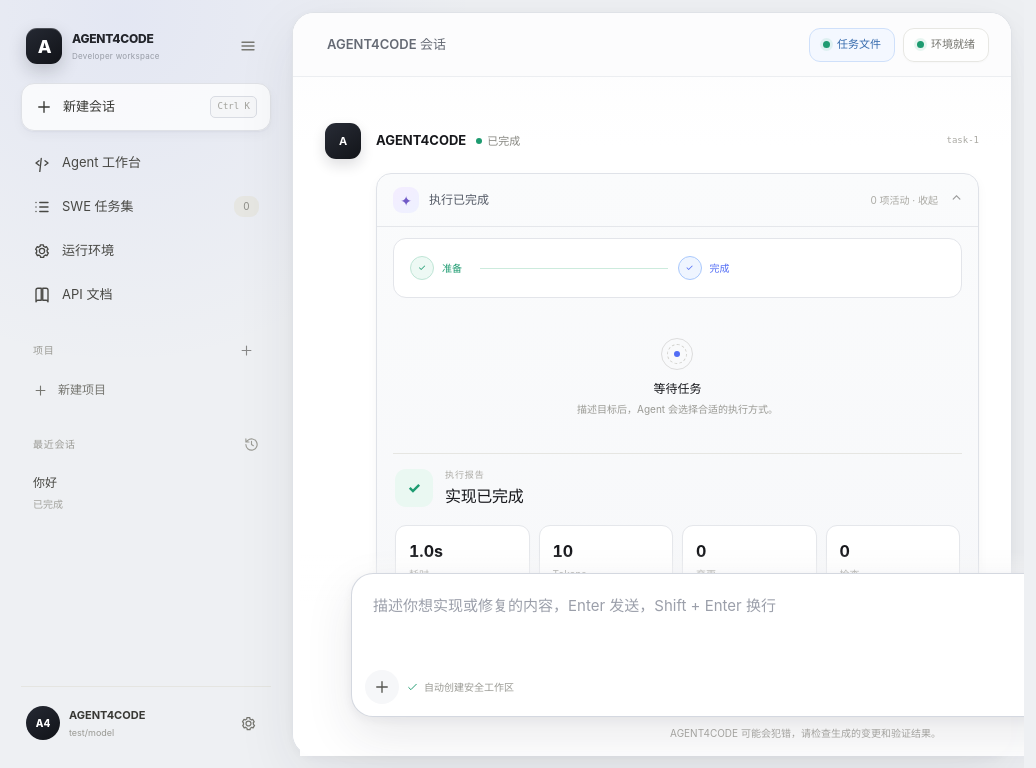
Scenario: AGENT4CODE chat shell › renders one execution card that auto-expands on a completed task
Click the button with class "conversation-select": (130, 493) [21,465,239,521]
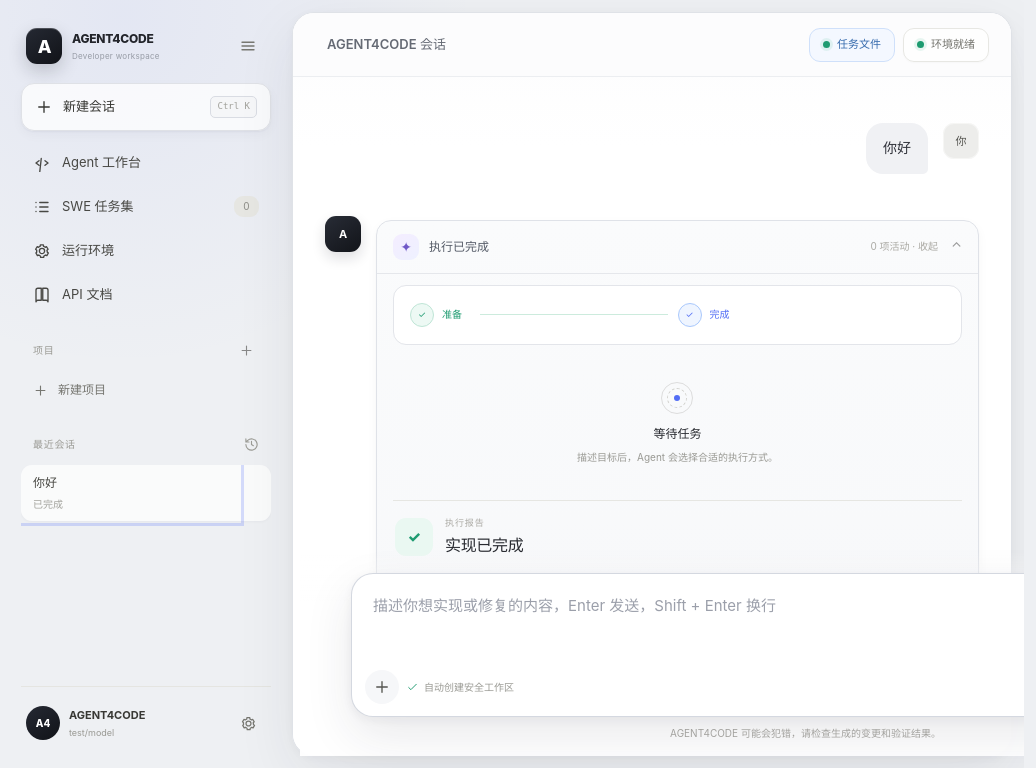
Expected: the number of elements with class "thinking-card" is 1, [376,220,979,672]
Expected: the element with class "report-panel" is shown, [393,500,962,655]
// The user can still collapse the execution details.
Click the button with class "thinking-toggle": (459, 246) [377,221,978,273]
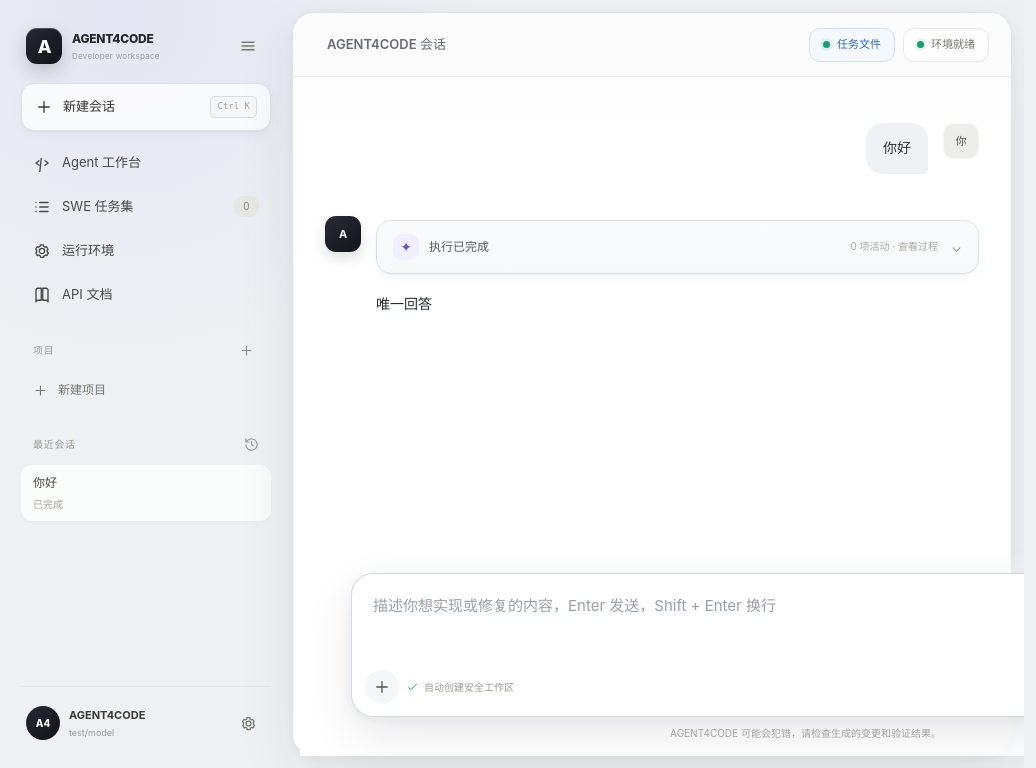
Expected: the element with class "report-panel" is gone
